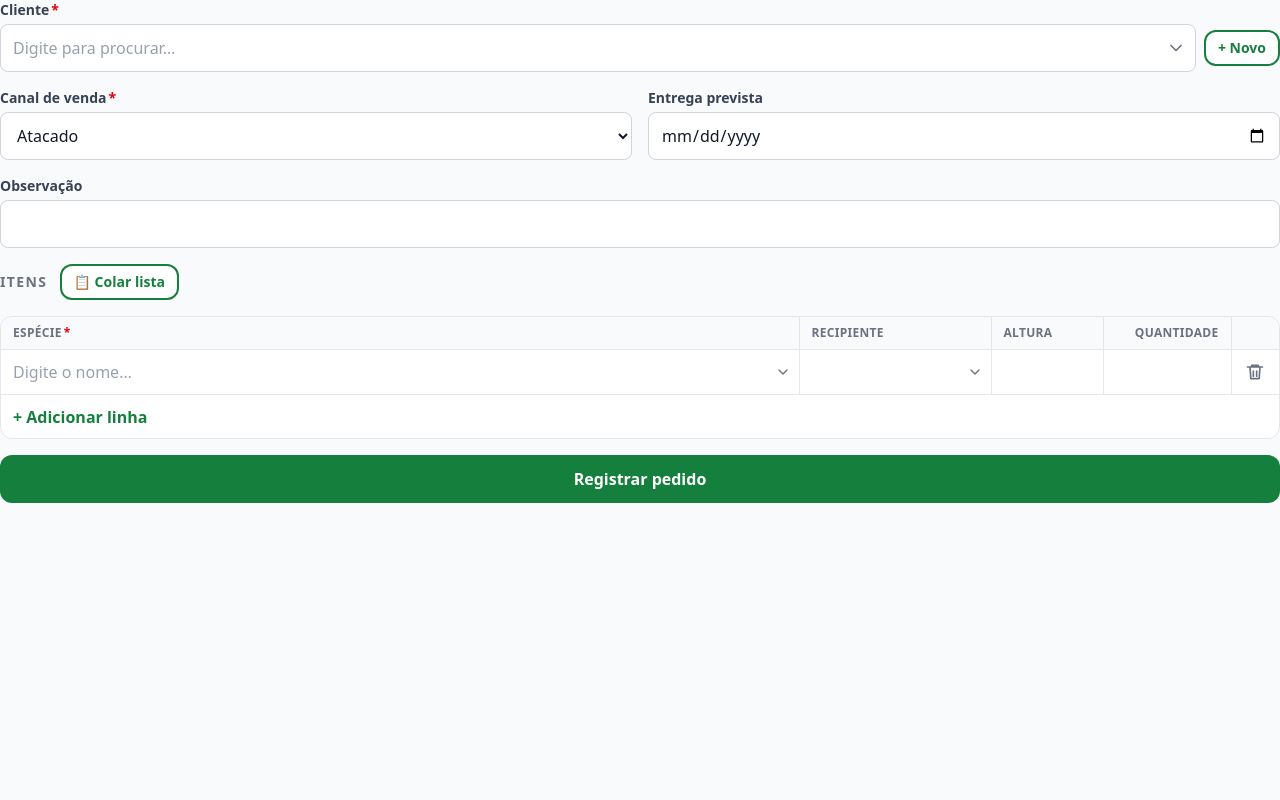
NovoPedidoForm (T8.1) › espécie digitada que não existe abre o cadastro rápido com o nome preenchido
Type "Guapuruvu" into the field named "Espécie do item 1". click: coordinates (400, 372)
box: [1,350,798,394]
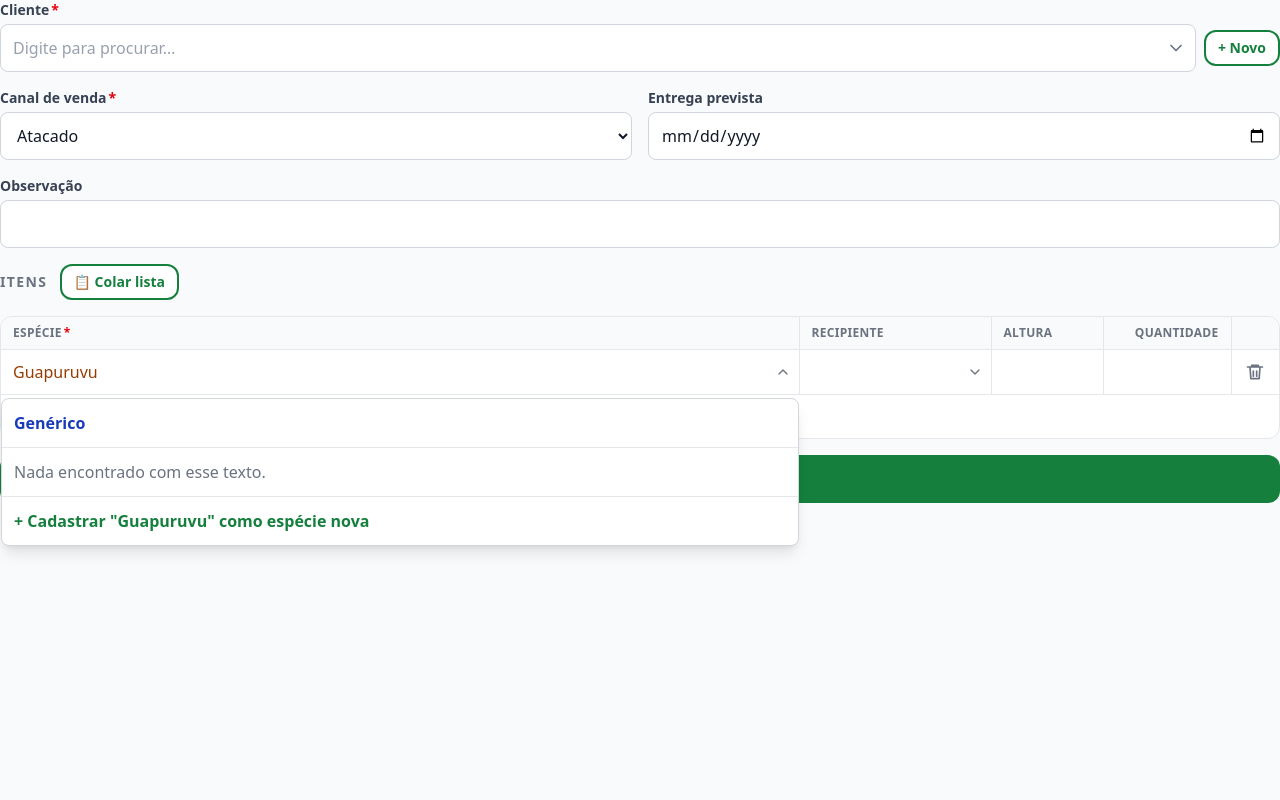
Click the button "+ Cadastrar \"Guapuruvu\" como espécie nova". click: coordinates (192, 521)
box: [2,497,798,545]
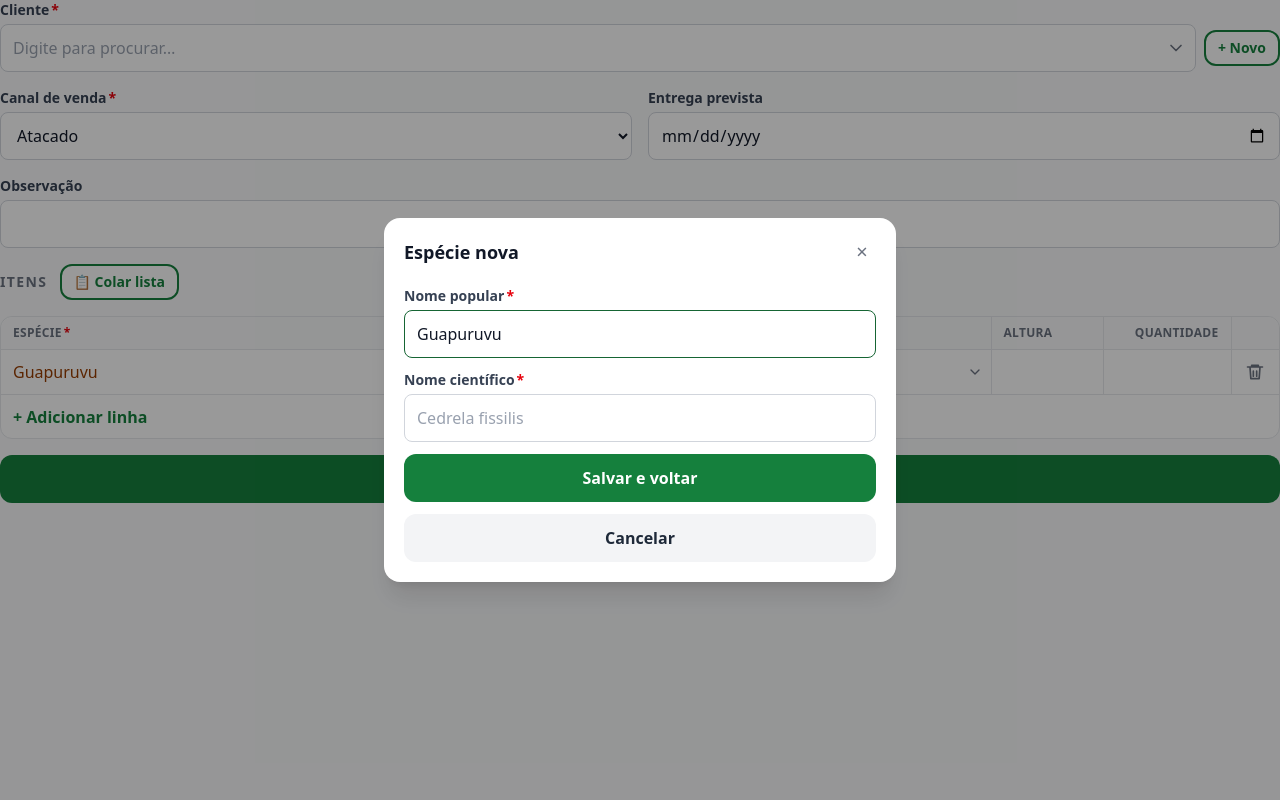
expect the dialog "Espécie nova" is shown: met, box [384,218,896,582]
expect the field labelled "Nome popular" holds "Guapuruvu": met, box [404,310,876,358]
